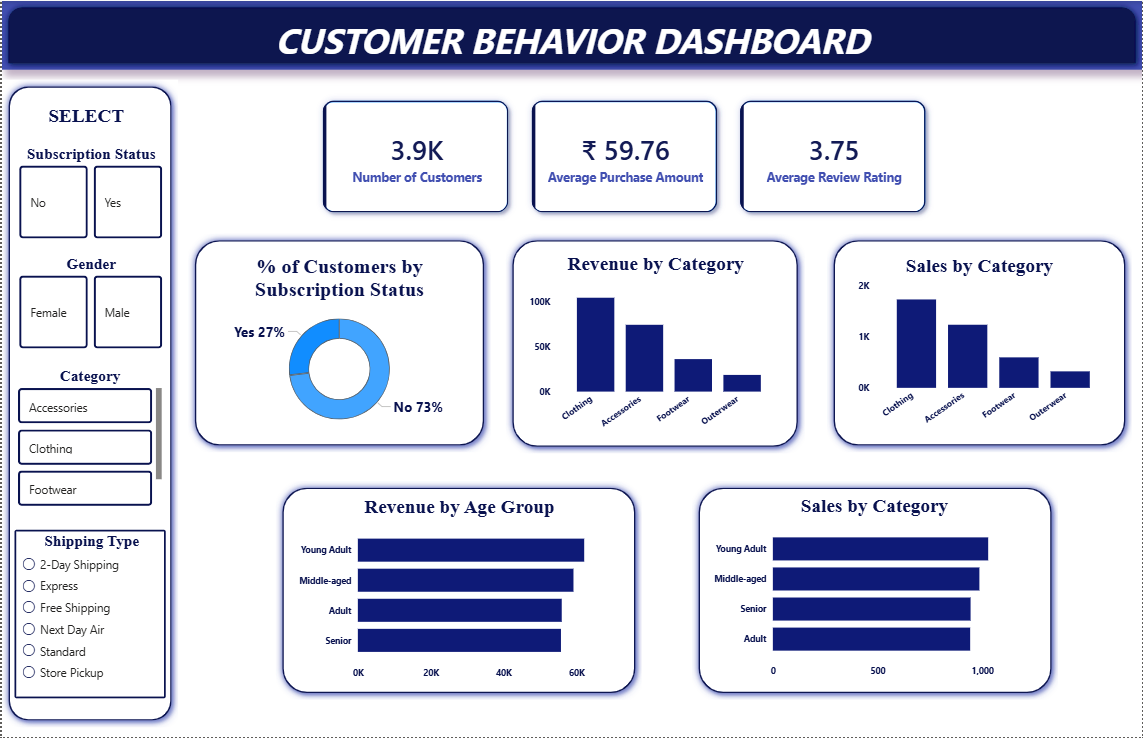

The page's visual inventory and layout, read from the dashboard file:
{"tool":"powerbi","page":{"name":"Page 1","canvas":[1580,1020],"ordinal":0},"visuals":[{"type":"cardVisual","fields":{"Data":["public customer.Number of Customers","public customer.Average Purchase Amount","public customer.Average Review Rating"]},"box":[415.8,109.1,895.6,213.1],"z":0},{"type":"shape","box":[0,0,1579.9,95.3],"z":1000},{"type":"textbox","box":[0,17.3,1579.9,91.8],"z":2000},{"type":"shape","box":[258.1,322.2,419.2,303.2],"z":3000},{"type":"shape","box":[698.1,322.2,414,304.9],"z":4000},{"type":"shape","box":[1143.3,322.2,422.7,303.2],"z":5000},{"type":"donutChart","title":"% of Customers by Subscription Status","fields":{"Category":["public customer.subscription_status"],"Y":["CountNonNull(public customer.customer_id)"]},"box":[287.6,351.7,360.3,254.7],"z":6000},{"type":"clusteredColumnChart","title":"Revenue by Category","fields":{"Y":["Sum(public customer.purchase_amount)"],"Category":["public customer.category"]},"box":[725.9,348.2,360.3,263.3],"z":7000},{"type":"clusteredColumnChart","title":"Sales by Category","fields":{"Y":["CountNonNull(public customer.customer_id)"],"Category":["public customer.category"]},"box":[1165.9,351.7,377.7,254.7],"z":8000},{"type":"shape","box":[0,109.1,244.3,897.4],"z":9000},{"type":"advancedSlicerVisual","title":"Subscription Status","fields":{"Values":["public customer.subscription_status"]},"box":[19.1,199.2,209.6,135.1],"z":10000},{"type":"advancedSlicerVisual","title":"Gender","fields":{"Values":["public customer.gender"]},"box":[19.1,351.7,209.6,135.1],"z":11000},{"type":"advancedSlicerVisual","title":"Category","fields":{"Values":["public customer.category"]},"box":[17.3,507.6,209.6,197.5],"z":12000},{"type":"listSlicer","title":"Shipping Type","fields":{"Values":["public customer.shipping_type"]},"box":[17.3,732.8,209.6,233.9],"z":13000},{"type":"shape","box":[379.4,665.2,507.6,303.2],"z":16000},{"type":"shape","box":[956.3,665.2,507.6,303.2],"z":17000},{"type":"clusteredBarChart","title":"Sales by Category","fields":{"Category":["public customer.age_group"],"Y":["CountNonNull(public customer.customer_id)"]},"box":[980.5,684.3,457.3,263.3],"z":17001},{"type":"clusteredBarChart","title":"Revenue by Age Group","fields":{"Category":["public customer.age_group"],"Y":["Sum(public customer.purchase_amount)"]},"box":[405.4,686,457.3,263.3],"z":17002},{"type":"textbox","box":[19.1,138.6,195.8,43.3],"z":17003}]}

Visuals, with their boxes in screenshot pixels (x1, y1, x2, y2), scaled from the page's 1580x1020 canvas onto the 1143x738 screenshot:
cardVisual - public customer.Number of Customers x public customer.Average Purchase Amount: (301,79,949,233)
shape: (0,0,1142,69)
textbox: (0,13,1142,79)
shape: (187,233,490,452)
shape: (505,233,805,454)
shape: (827,233,1133,452)
"% of Customers by Subscription Status" donutChart: (208,254,469,439)
"Revenue by Category" clusteredColumnChart: (525,252,786,442)
"Sales by Category" clusteredColumnChart: (843,254,1117,439)
shape: (0,79,177,728)
"Subscription Status" advancedSlicerVisual: (14,144,165,242)
"Gender" advancedSlicerVisual: (14,254,165,352)
"Category" advancedSlicerVisual: (13,367,164,510)
"Shipping Type" listSlicer: (13,530,164,699)
shape: (274,481,642,701)
shape: (692,481,1059,701)
"Sales by Category" clusteredBarChart: (709,495,1040,686)
"Revenue by Age Group" clusteredBarChart: (293,496,624,687)
textbox: (14,100,155,132)
